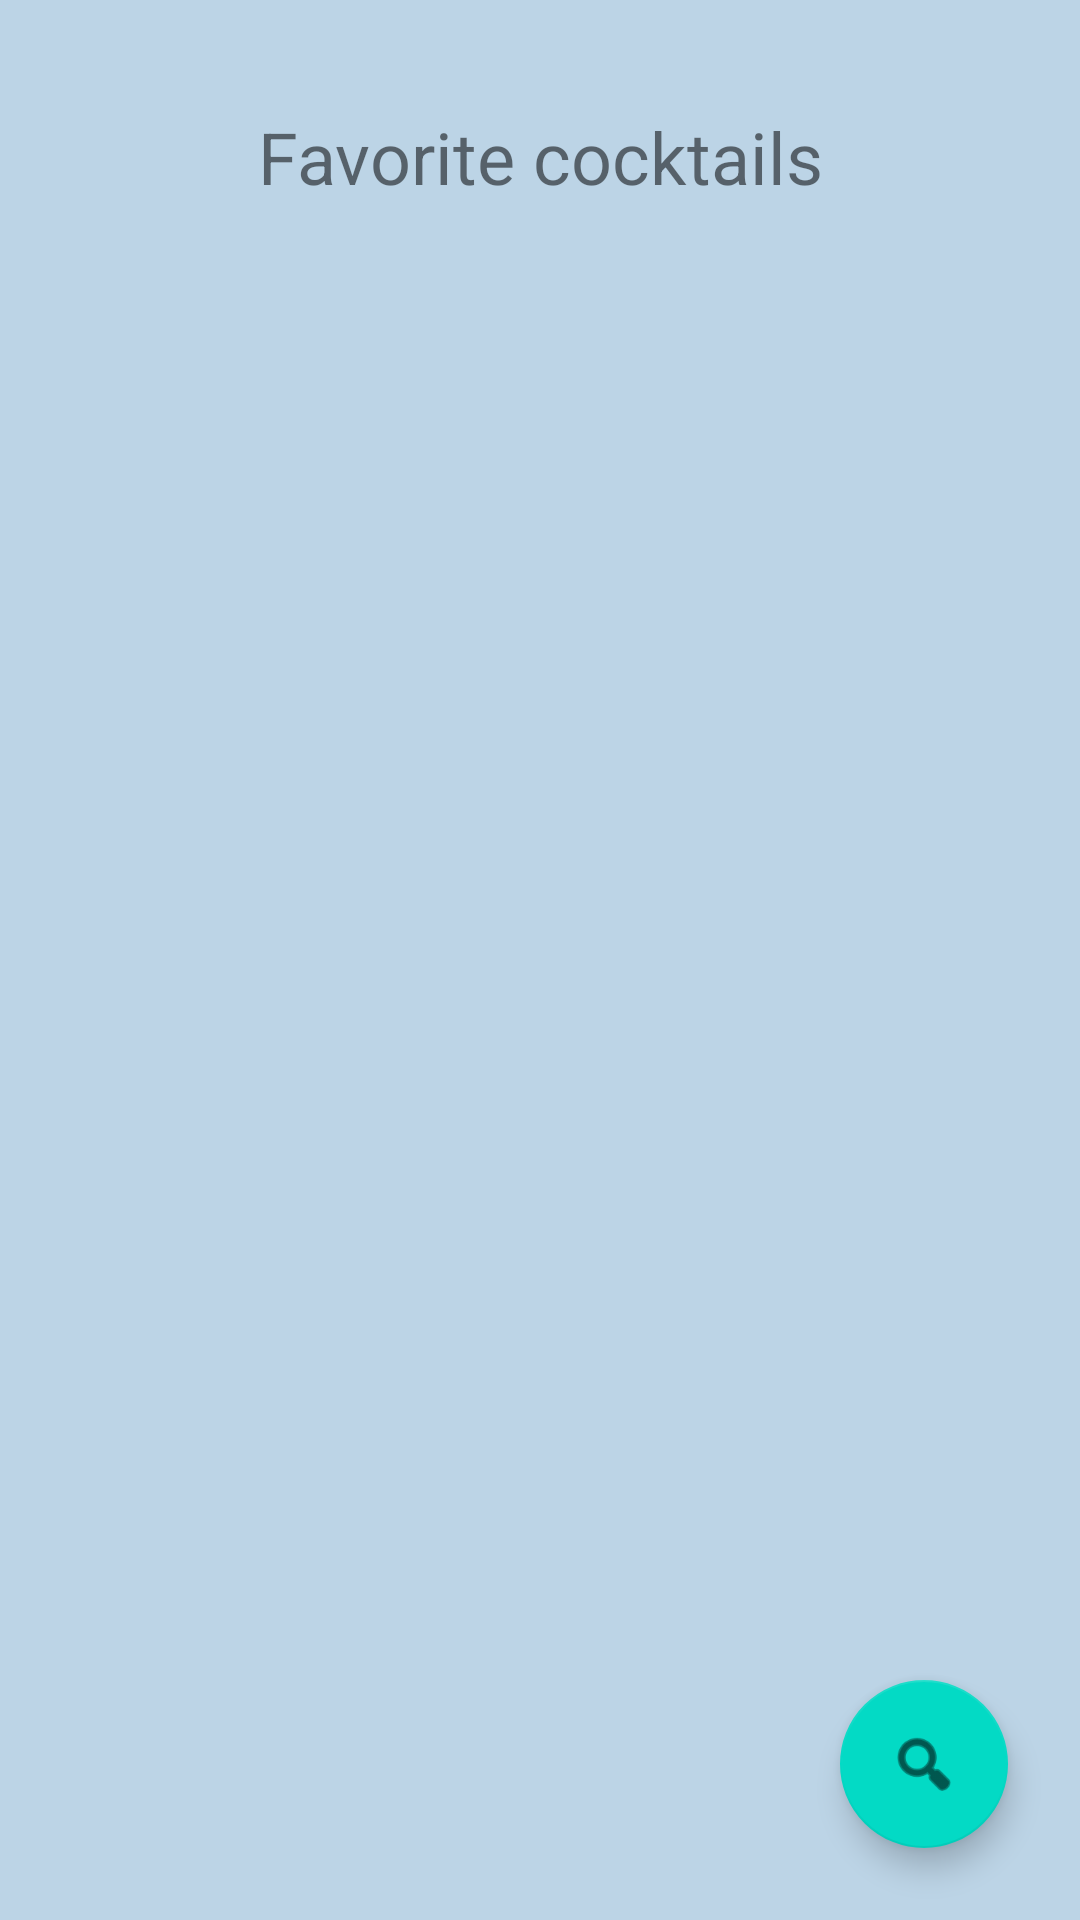

Icon click points for this 1080w x 1920h phone screenshot, format point (x, y):
search: point (924, 1764)
